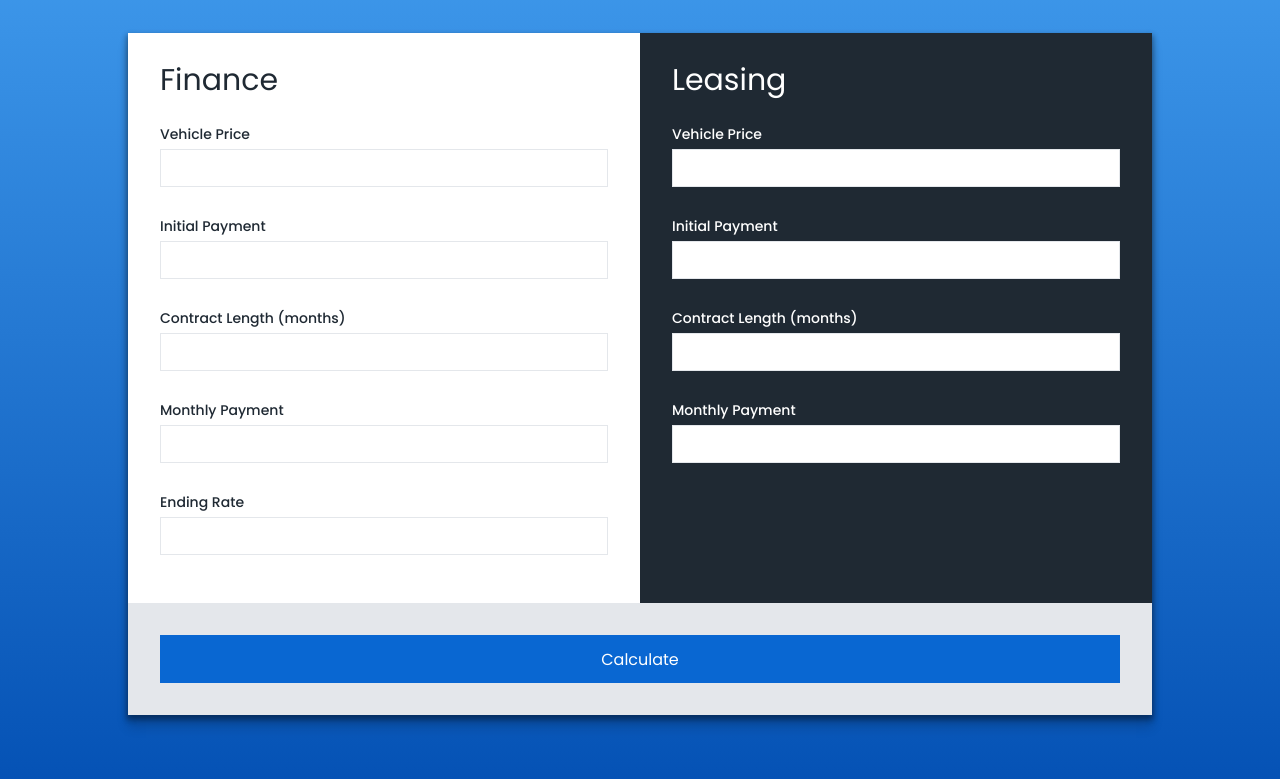
Scenario: Home › should display correct result for empty form values
(page scrolled)
Click the button "Calculate" at x=640, y=659, box [160,635,1120,683]
(page scrolled)
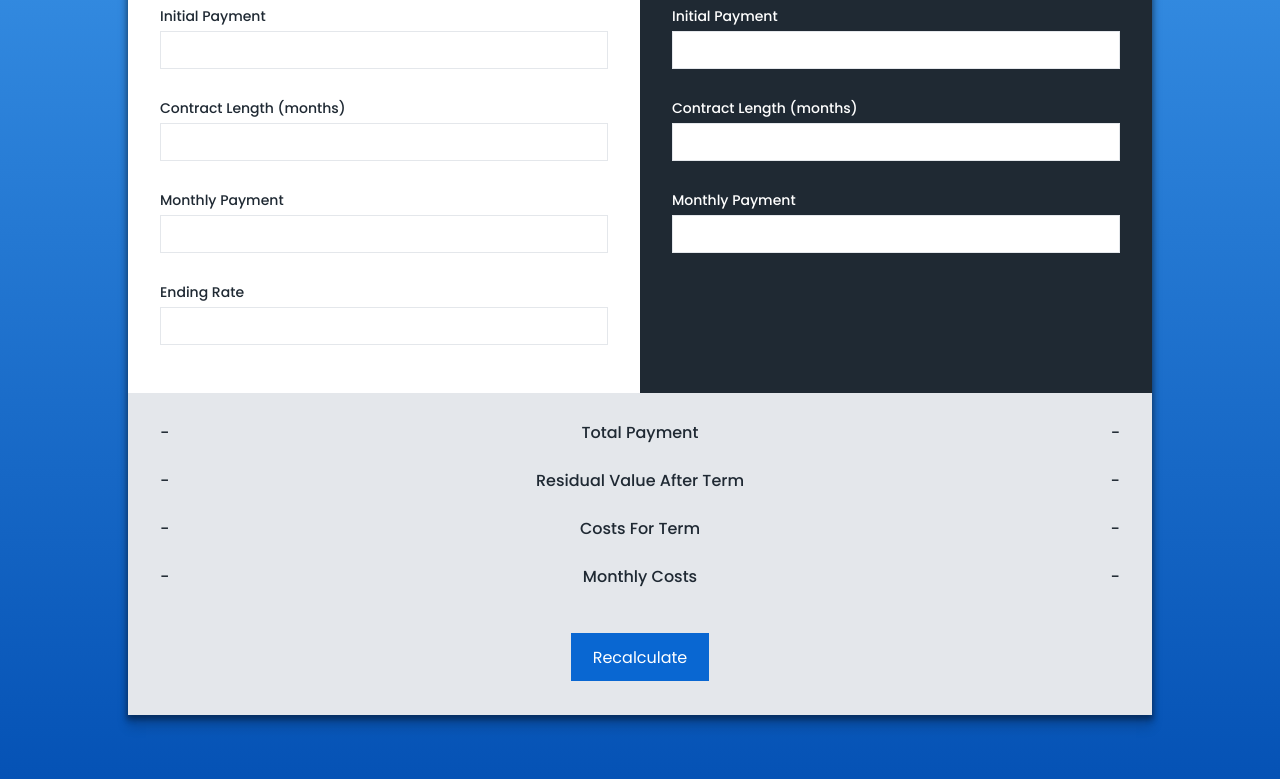
Expected: the heading with test id "totalPrice-financing" reads "-", [160,421,169,444]
Expected: the heading with test id "totalPrice-leasing" reads "-", [1111,421,1120,444]
Expected: the heading with test id "residualValue-financing" reads "-", [160,469,169,492]
